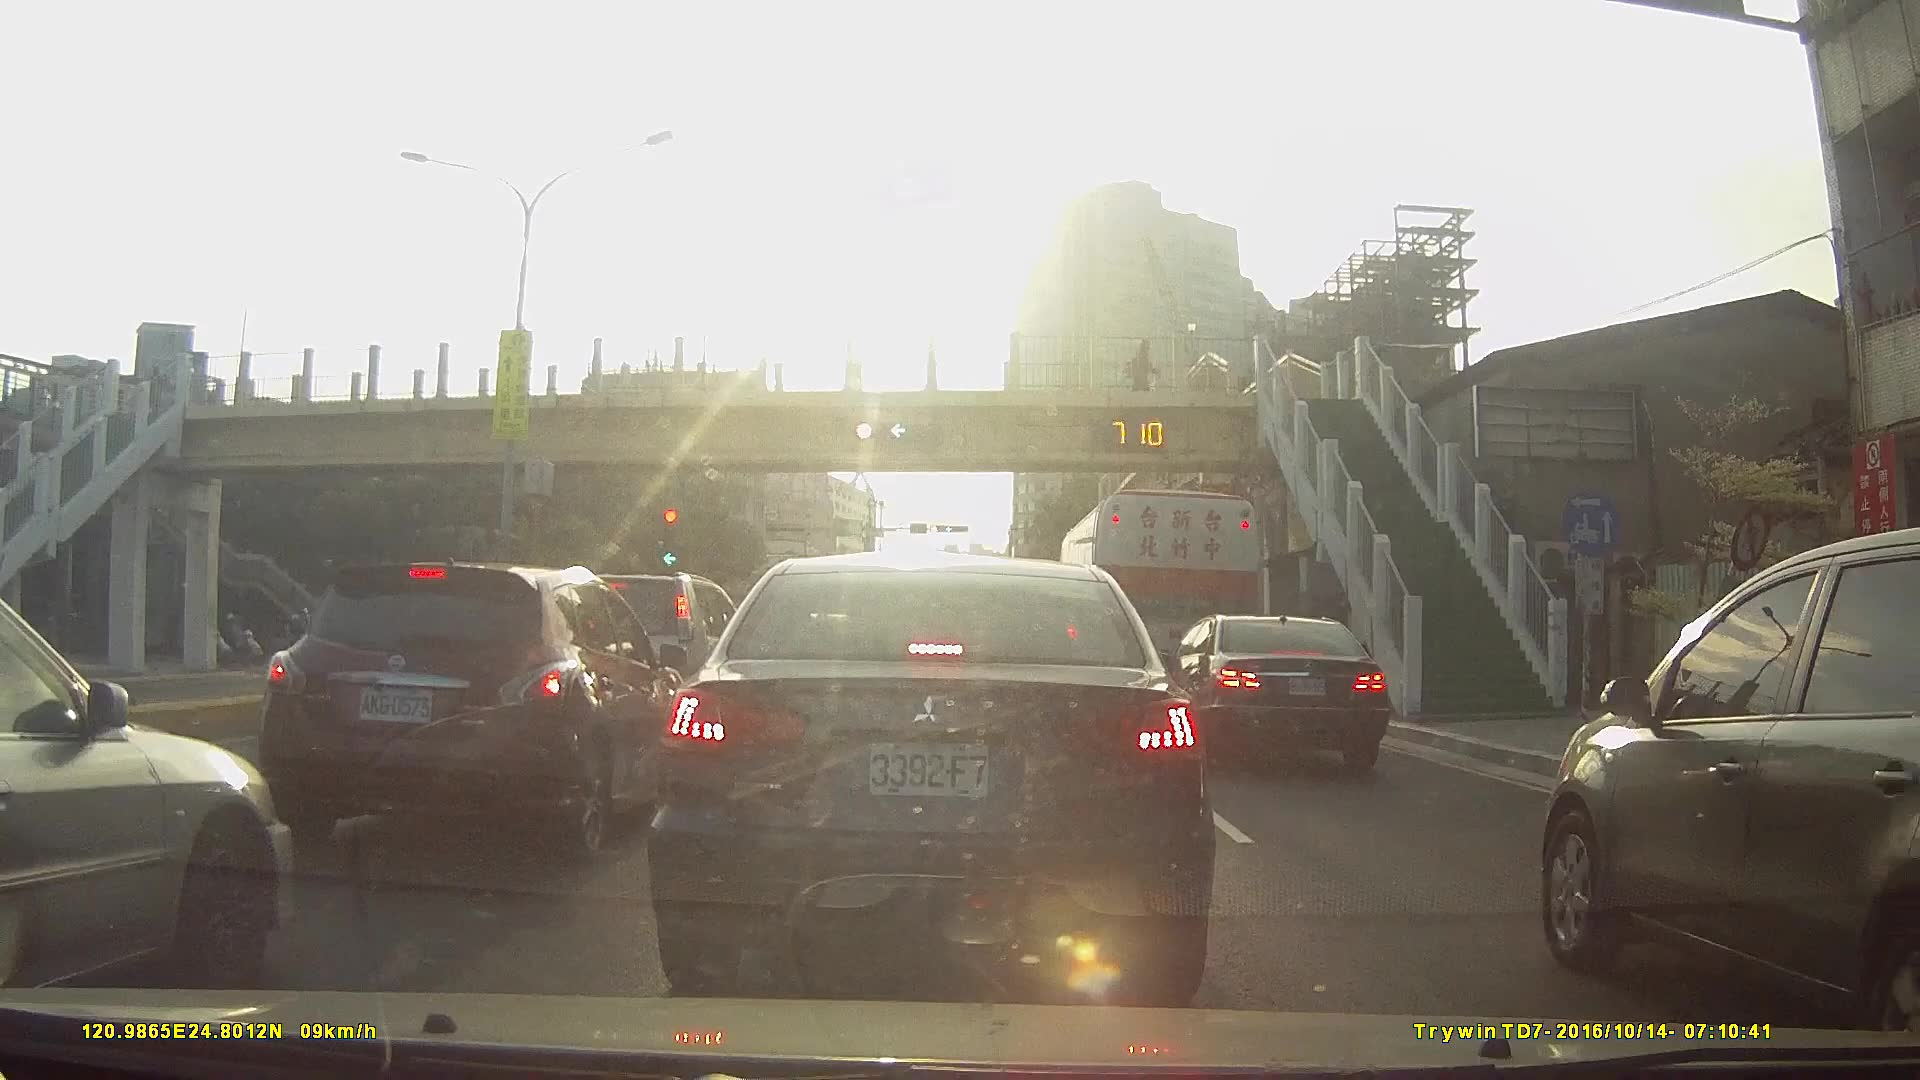pedestrian: (1128, 339, 1155, 395)
rider: (213, 613, 269, 668)
vehicle: (643, 552, 1218, 1004), (1532, 522, 1920, 1070), (255, 557, 692, 866), (0, 588, 294, 1004), (1056, 485, 1264, 726), (1154, 614, 1393, 775)
